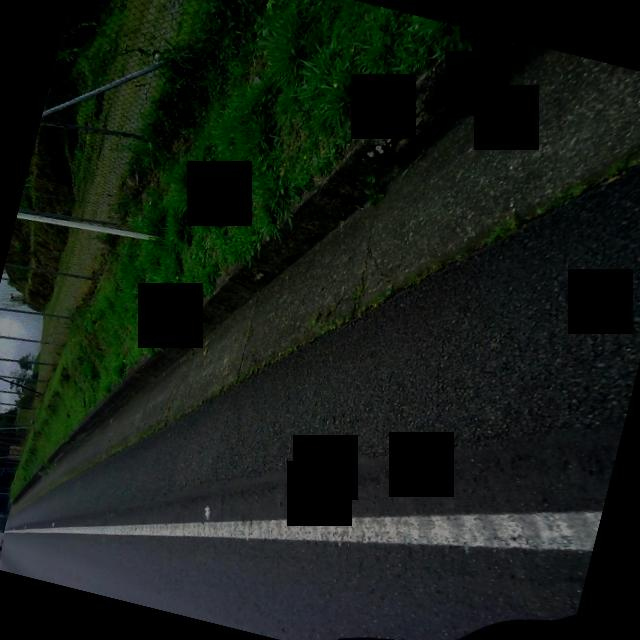DITCH: (0, 0, 640, 640), (4, 0, 640, 640), (5, 0, 640, 640)
